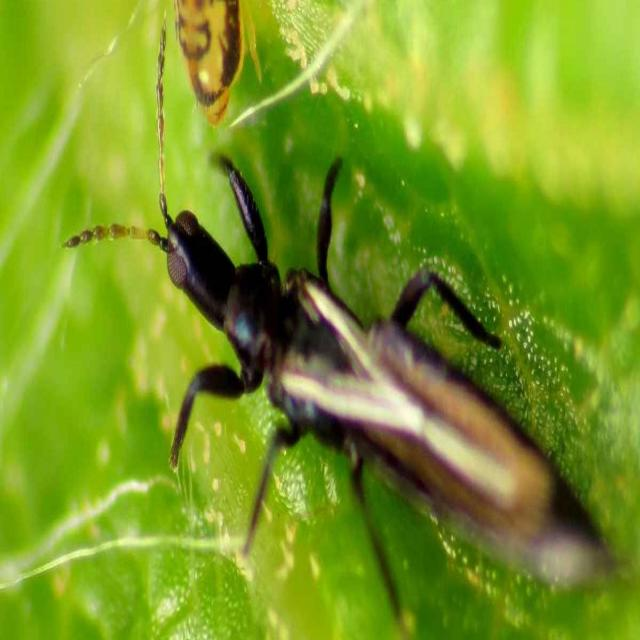Thrip-Adult-: (105, 162, 610, 600)
